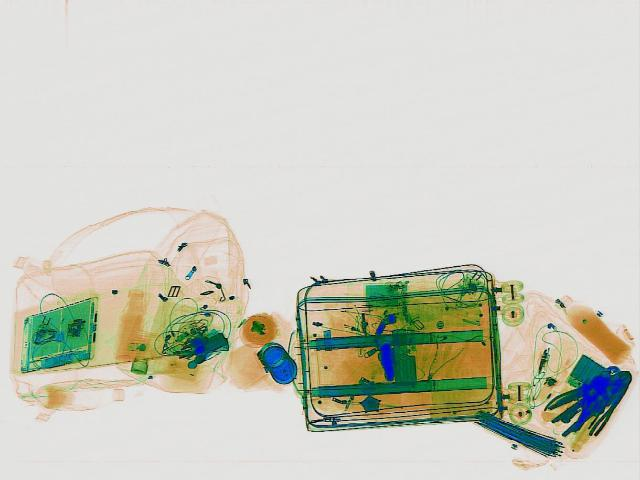Pliers: (553, 362, 639, 431)
